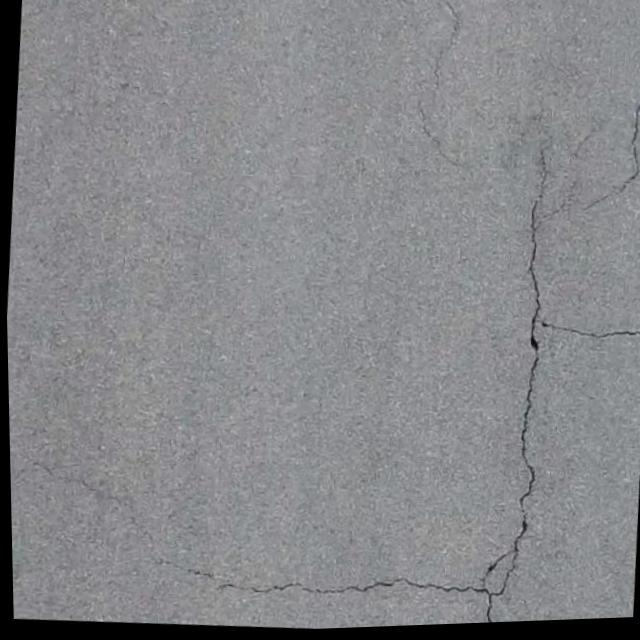Crack: (449, 65, 640, 627), (146, 522, 492, 604)
